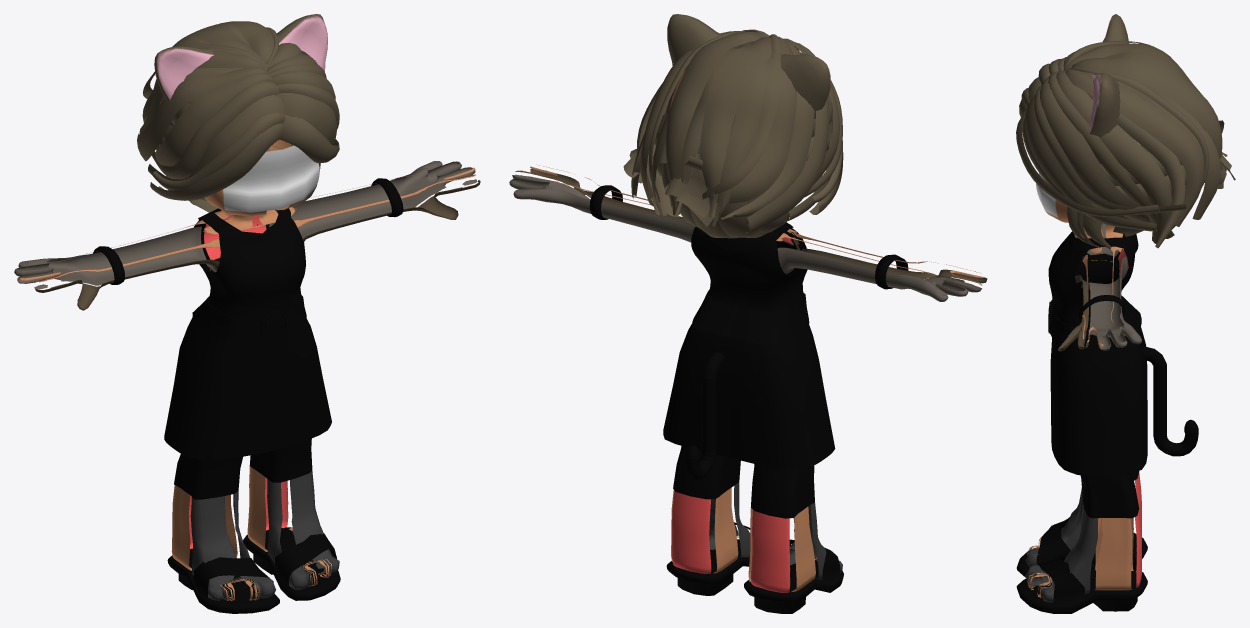
File: People Female.fbx
3 views of the same model, side by side, from view 1: azimuth 30°, elevation 25°; view 2: azimuth 150°, elevation 25°; view 3: azimuth 270°, elevation 25° (orthographic). The views are drawn at different scales.
Visible parts, largest first — view 1: Female body.002, Hair F; view 2: Female body.002, Hair F; view 3: Female body.002, Hair F.
Boxes of the visible parts, x1=… form: Female body.002: x1=14, y1=139, x2=480, y2=613; Hair F: x1=137, y1=14, x2=339, y2=213; Female body.002: x1=509, y1=70, x2=987, y2=613; Hair F: x1=623, y1=14, x2=843, y2=238; Female body.002: x1=1016, y1=139, x2=1198, y2=613; Hair F: x1=1016, y1=14, x2=1235, y2=249.
Size of the model in its own units: 245 by 279 by 103.
13 materials, 12 textured.
